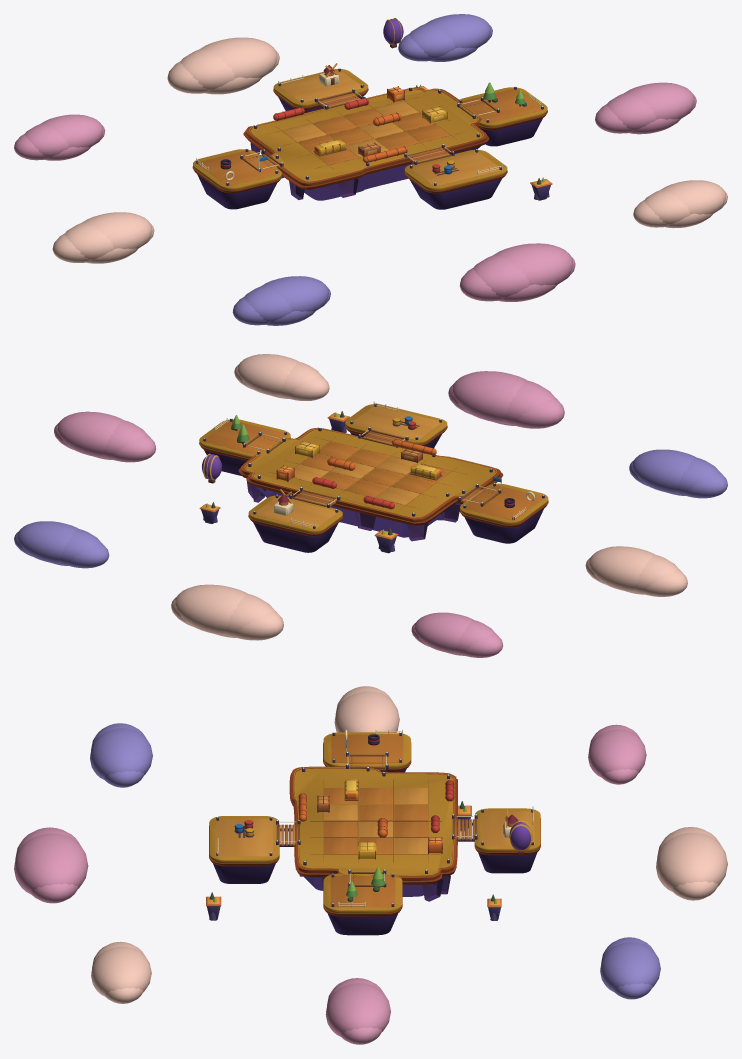
File: open_ringout_v2_preview.glb
3 views of the same model, one above another, from view 1: azimuth 30°, elevation 25°; view 2: azimuth 150°, elevation 25°; view 3: azimuth 270°, elevation 25° (orthographic). The views are drawn at different scales.
Visible parts, largest first — view 1: V2CentralTopInset, V3CloudSouth_2, V3CloudNorth_2, V3CloudWest_2, V3CloudEast_2, V3SouthIslandTopInset, V3CloudSouthWest_2, V2CentralTop, V3WestIslandTopInset, V3CloudSouthEast_2, V3CloudNorthEast_2, V3CloudSouth_1 (+28 smaller); view 2: V2CentralTopInset, V3CloudSouth_2, V3CloudNorth_2, V3CloudWest_2, V3CloudEast_2, V3CloudSouthWest_2, V3CloudNorthEast_2, V3CloudSouthEast_2, V3CloudNorthWest_2, V3SouthIslandTopInset, V2CentralTop, V3WestIslandTopInset (+26 smaller); view 3: V2CentralTopInset, V3CloudSouth_2, V3CloudNorth_2, V3CloudEast_2, V3CloudSouthWest_2, V3CloudWest_2, V3CloudNorthEast_2, V3CloudSouthEast_2, V3CloudNorthWest_2, V3SouthIslandTopInset, V3WestIslandTopInset, V3EastIslandTopInset (+17 smaller).
Part boxes in pixels (box(x1,y1,x2,y2)): V2CentralTopInset: box(250, 89, 481, 181); V3CloudSouth_2: box(492, 243, 573, 285); V3CloudNorth_2: box(199, 37, 277, 78); V3CloudWest_2: box(81, 212, 152, 249); V3CloudEast_2: box(624, 82, 694, 119); V3SouthIslandTopInset: box(409, 151, 502, 186); V3CloudSouthWest_2: box(261, 276, 328, 311); V2CentralTop: box(245, 87, 487, 186); V3WestIslandTopInset: box(196, 150, 278, 186); V3CloudSouthEast_2: box(660, 180, 725, 214); V3CloudNorthEast_2: box(425, 14, 490, 48); V3CloudSouth_1: box(473, 255, 530, 298); V2CentralTopInset: box(246, 429, 495, 517); V3CloudSouth_2: box(452, 371, 527, 423); V3CloudNorth_2: box(175, 584, 247, 635); V3CloudWest_2: box(589, 546, 654, 591); V3CloudEast_2: box(57, 411, 122, 457); V3CloudSouthWest_2: box(633, 449, 695, 493); V3CloudNorthEast_2: box(17, 521, 78, 563); V3CloudSouthEast_2: box(238, 354, 298, 396); V3CloudNorthWest_2: box(415, 612, 473, 653); V3SouthIslandTopInset: box(349, 406, 442, 440); V2CentralTop: box(240, 427, 500, 522); V3WestIslandTopInset: box(463, 485, 545, 520); V2CentralTopInset: box(294, 768, 452, 875); V3CloudSouth_2: box(14, 833, 88, 893); V3CloudNorth_2: box(656, 832, 727, 890); V3CloudEast_2: box(326, 983, 390, 1035); V3CloudSouthWest_2: box(90, 728, 152, 779); V3CloudWest_2: box(335, 691, 399, 732); V3CloudNorthEast_2: box(600, 942, 660, 991); V3CloudSouthEast_2: box(91, 946, 151, 995); V3CloudNorthWest_2: box(588, 729, 646, 776); V3SouthIslandTopInset: box(215, 819, 273, 856); V3WestIslandTopInset: box(331, 734, 403, 762); V3EastIslandTopInset: box(330, 876, 395, 907).
Bounding box in the file's own units: 187 × 28.74 × 163.
Materials: 41 (4 with a texture image).
